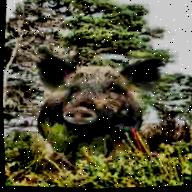boar: (31, 39, 161, 180)
